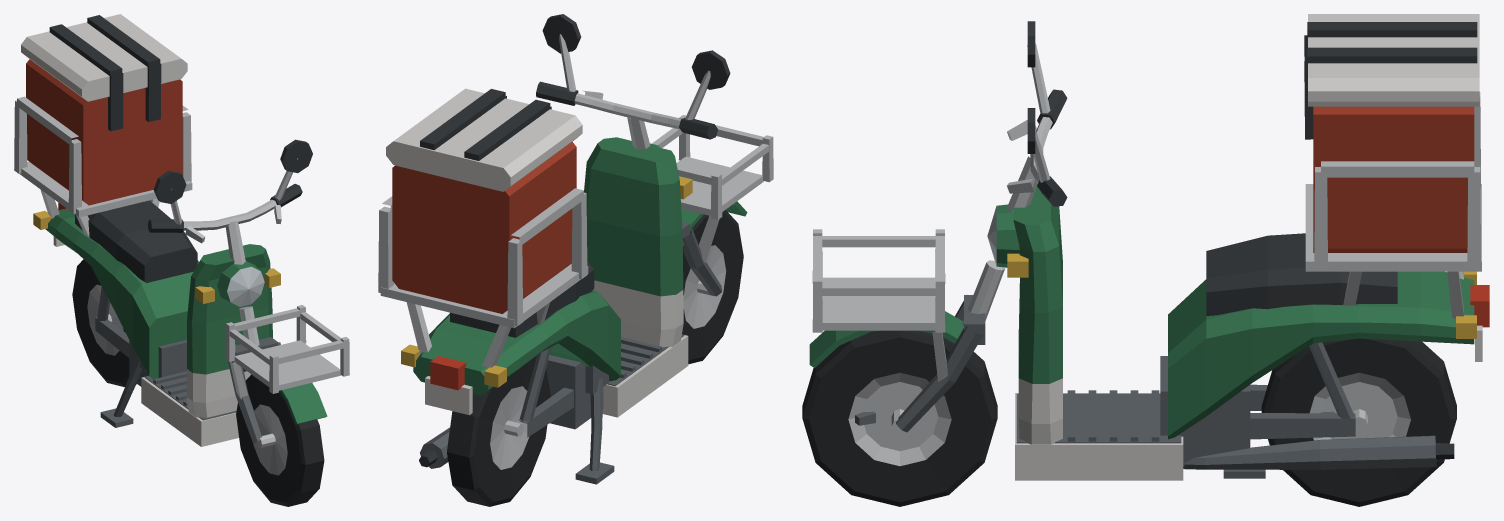
File: delivery-moped-1aa2ce.glb
3 renders of one model, left to right at view 1: azimuth 30°, elevation 25°; view 2: azimuth 150°, elevation 25°; view 3: azimuth 270°, elevation 25°, orthographic. The views are drawn at different scales.
Visible parts, largest first — view 1: body, cargo, front-assembly, wheel-front, wheel-rear, kickstand; view 2: body, cargo, front-assembly, wheel-rear, wheel-front, kickstand; view 3: body, cargo, wheel-front, front-assembly, wheel-rear.
Part boxes in pixels (box(x1,y1,x2,y2)): body: box(14, 96, 280, 446); cargo: box(21, 14, 187, 205); front-assembly: box(148, 139, 349, 447); wheel-front: box(236, 374, 324, 506); wheel-rear: box(72, 259, 136, 386); kickstand: box(100, 357, 142, 427); body: box(378, 137, 692, 468); cargo: box(386, 88, 582, 313); front-assembly: box(536, 14, 773, 296); wheel-rear: box(447, 355, 550, 506); wheel-front: box(682, 210, 743, 364); kickstand: box(575, 378, 614, 484); body: box(987, 92, 1489, 480); cargo: box(1304, 14, 1479, 252); wheel-front: box(802, 330, 997, 506); front-assembly: box(809, 21, 1067, 433); wheel-rear: box(1261, 338, 1456, 506).
Size of the model in its own units: 0.664 by 1.33 by 1.79.
